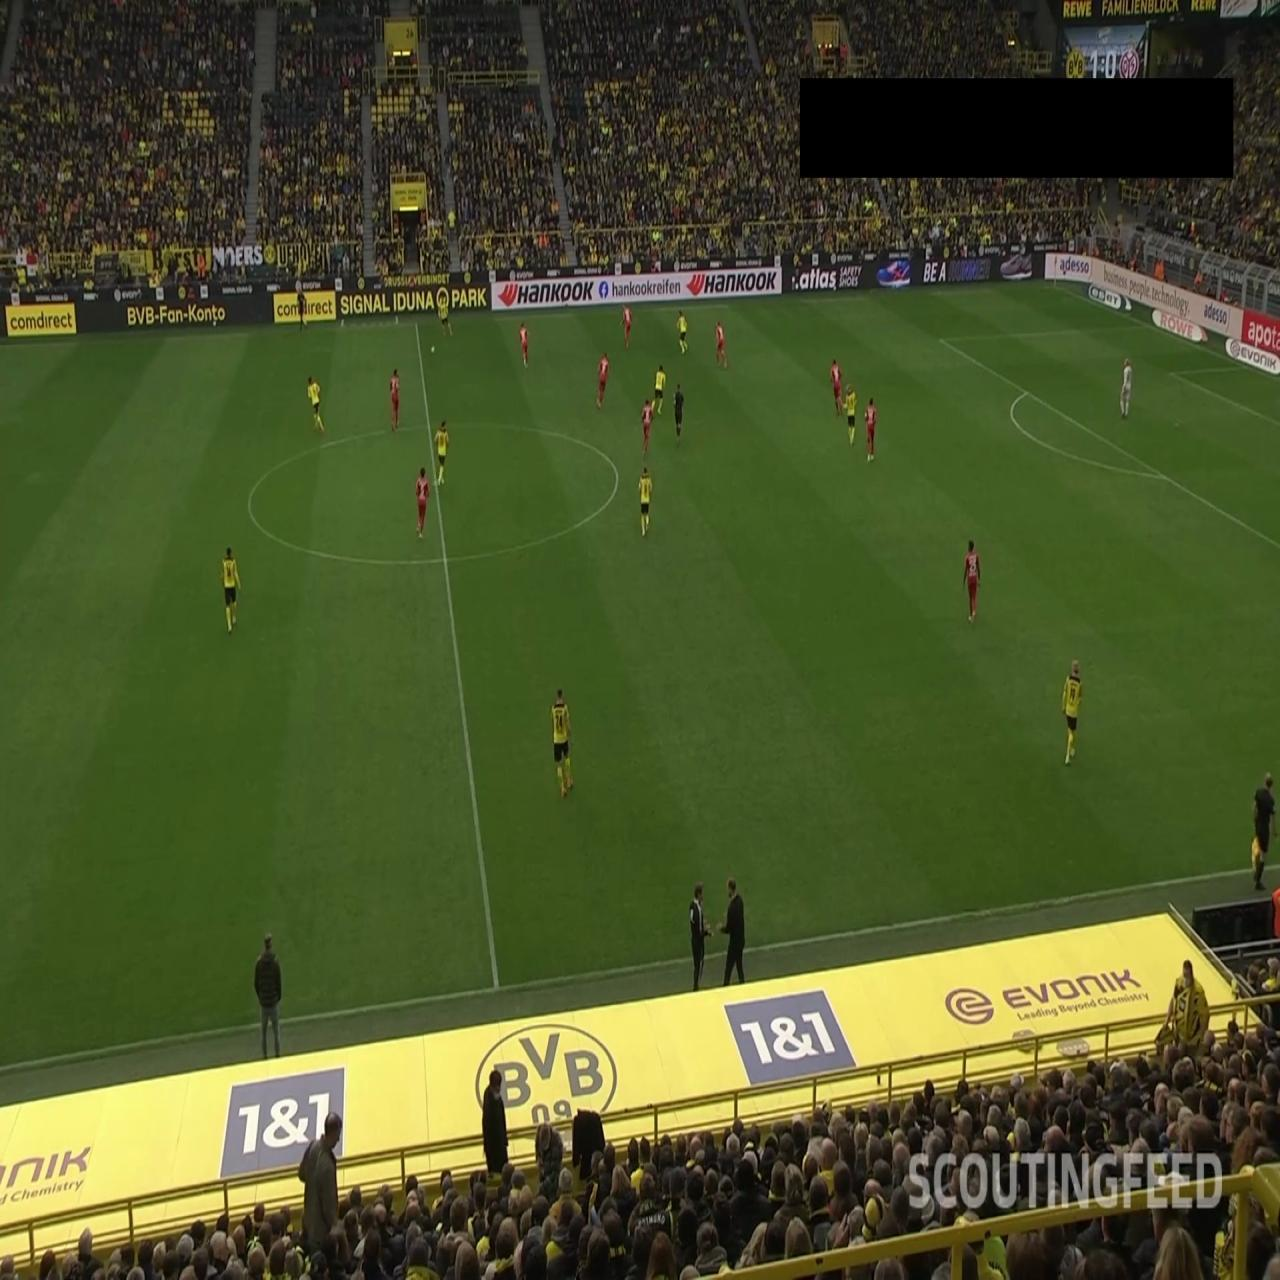Ball: (430, 345, 436, 355)
GoalKeeper: (1120, 356, 1133, 418)
Player: (550, 686, 574, 799), (1061, 659, 1083, 766), (221, 545, 242, 634), (962, 540, 981, 624), (415, 466, 430, 540), (306, 373, 324, 434), (434, 420, 450, 484), (638, 466, 652, 537), (864, 396, 878, 462), (844, 384, 858, 447), (596, 351, 610, 409), (640, 397, 654, 454), (830, 358, 843, 418), (652, 361, 666, 416), (389, 368, 401, 432), (715, 321, 728, 368), (438, 296, 452, 338), (621, 304, 633, 350), (676, 310, 688, 354), (518, 322, 528, 368)
Referee: (1251, 772, 1277, 890), (673, 380, 685, 446), (296, 280, 308, 331)
